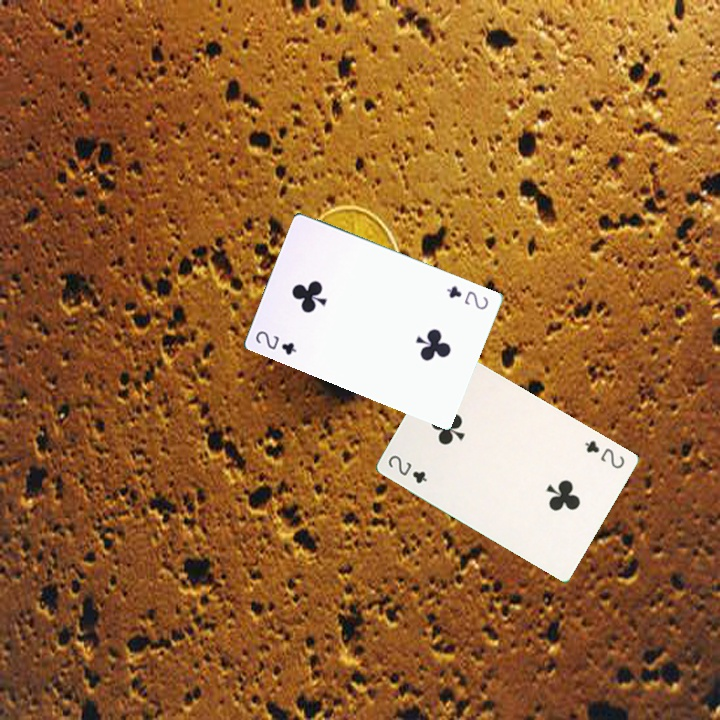2c: (580, 436, 627, 472), (384, 451, 429, 486), (443, 282, 491, 313), (251, 326, 299, 357)
